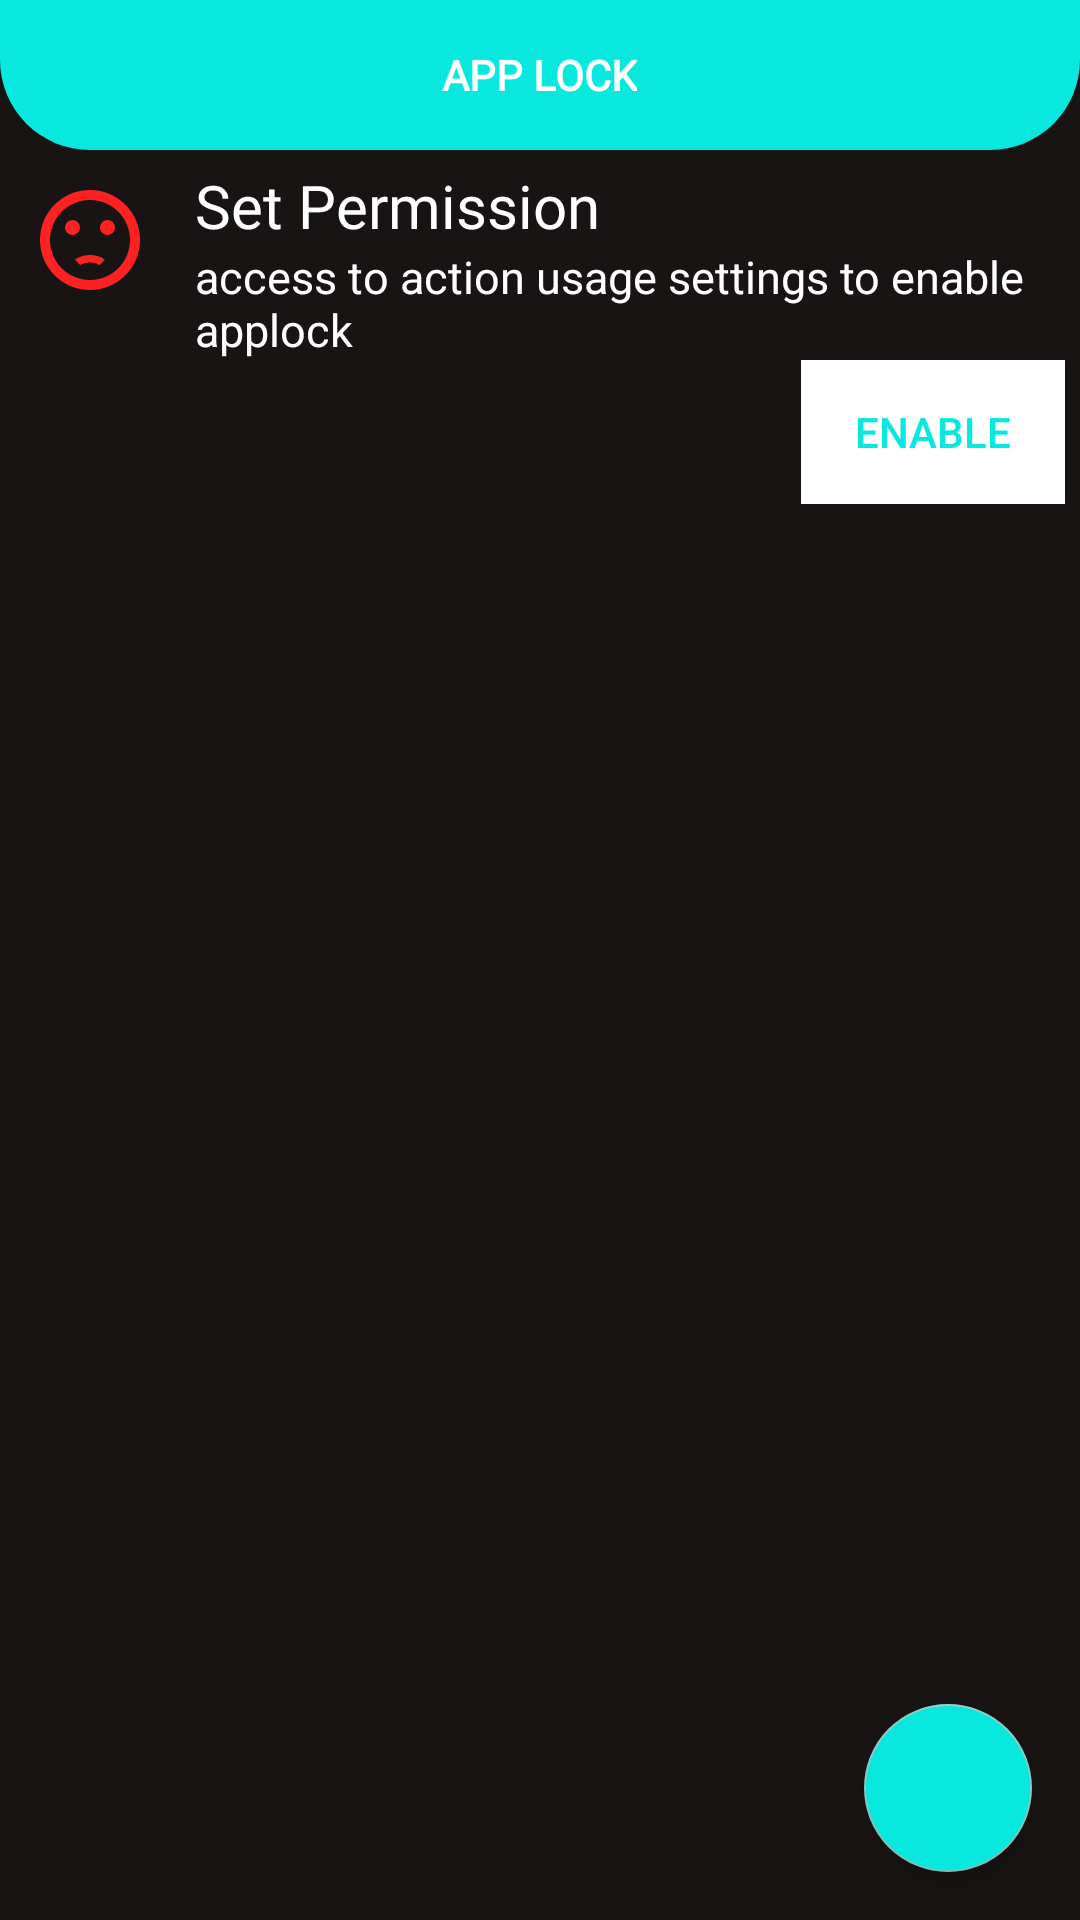

Screen size 1080 x 1920. Icon name, then its box in pixels as (x1, y1, x2, y2):
sentiment dissatisfied: (40, 190, 140, 290)
